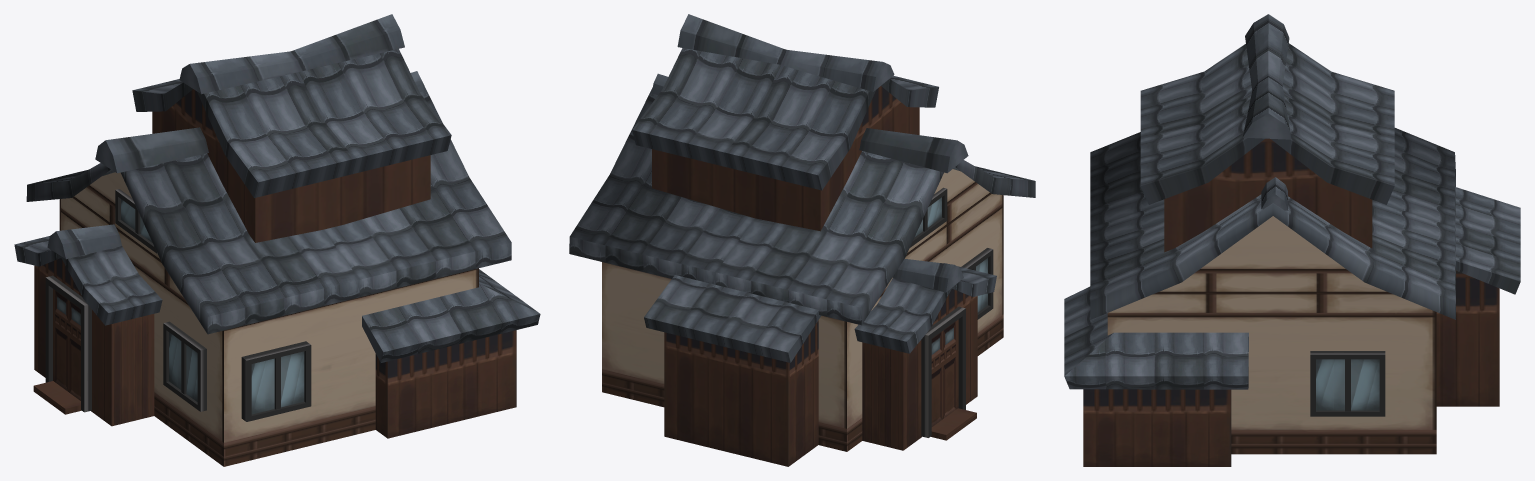
Rendered from old house-2.FBX.
3 renders of one model, left to right at view 1: azimuth 30°, elevation 25°; view 2: azimuth 150°, elevation 25°; view 3: azimuth 270°, elevation 25°, orthographic. The views are drawn at different scales.
Visible parts, largest first — view 1: old house-2; view 2: old house-2; view 3: old house-2.
Boxes of the visible parts, bbox=[...] form: old house-2: bbox=[14, 14, 540, 466]; old house-2: bbox=[569, 14, 1035, 466]; old house-2: bbox=[1064, 14, 1520, 466].
Bounding box in the file's own units: 3397 × 3008 × 3686.
